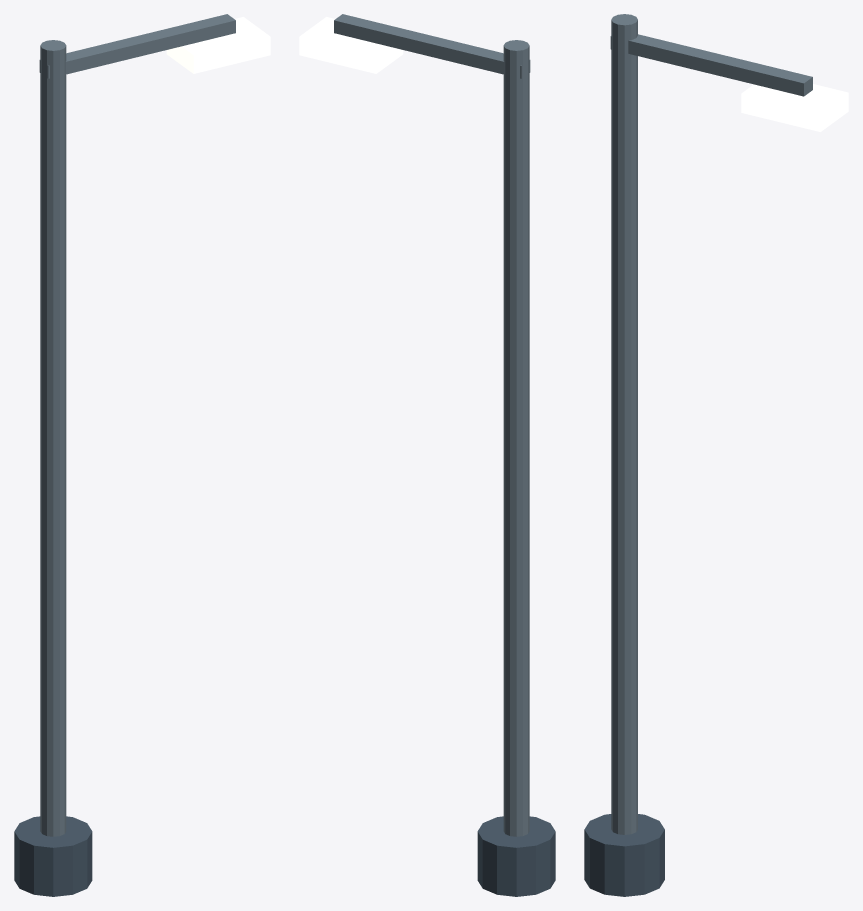
Rendered from streetlamp.glb.
3 views of the same model, side by side, from view 1: azimuth 30°, elevation 25°; view 2: azimuth 150°, elevation 25°; view 3: azimuth 330°, elevation 25° (orthographic). The views are drawn at different scales.
Parts seen in each view (by area): view 1: frame, dark, warm; view 2: frame, dark, warm; view 3: frame, dark, warm.
Part boxes in pixels (box(x1,y1,x2,y2)): frame: box(39, 14, 235, 836); dark: box(14, 816, 92, 896); warm: box(166, 17, 270, 73); frame: box(334, 14, 530, 836); dark: box(477, 816, 555, 896); warm: box(299, 17, 403, 73); frame: box(610, 14, 812, 834); dark: box(584, 814, 664, 896); warm: box(741, 84, 848, 131).
Bounding box in the file's own units: 2.53 × 8.5 × 0.72.
